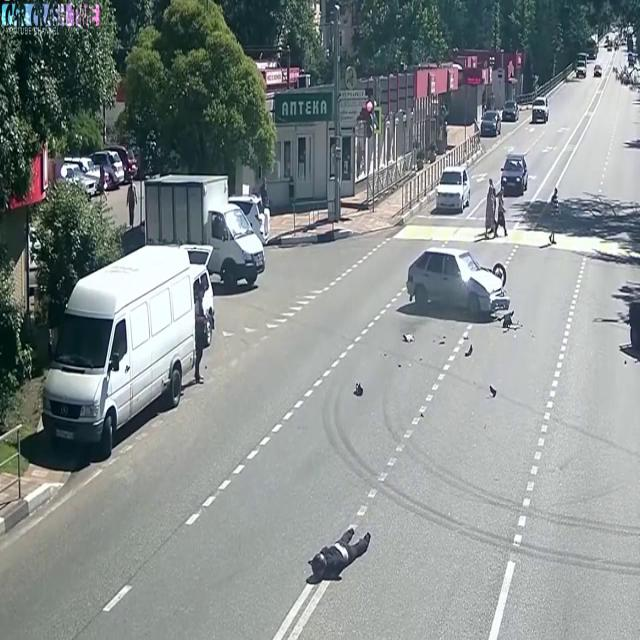accident: (392, 236, 529, 410), (296, 505, 382, 602)
non_accident: (37, 159, 276, 472)
